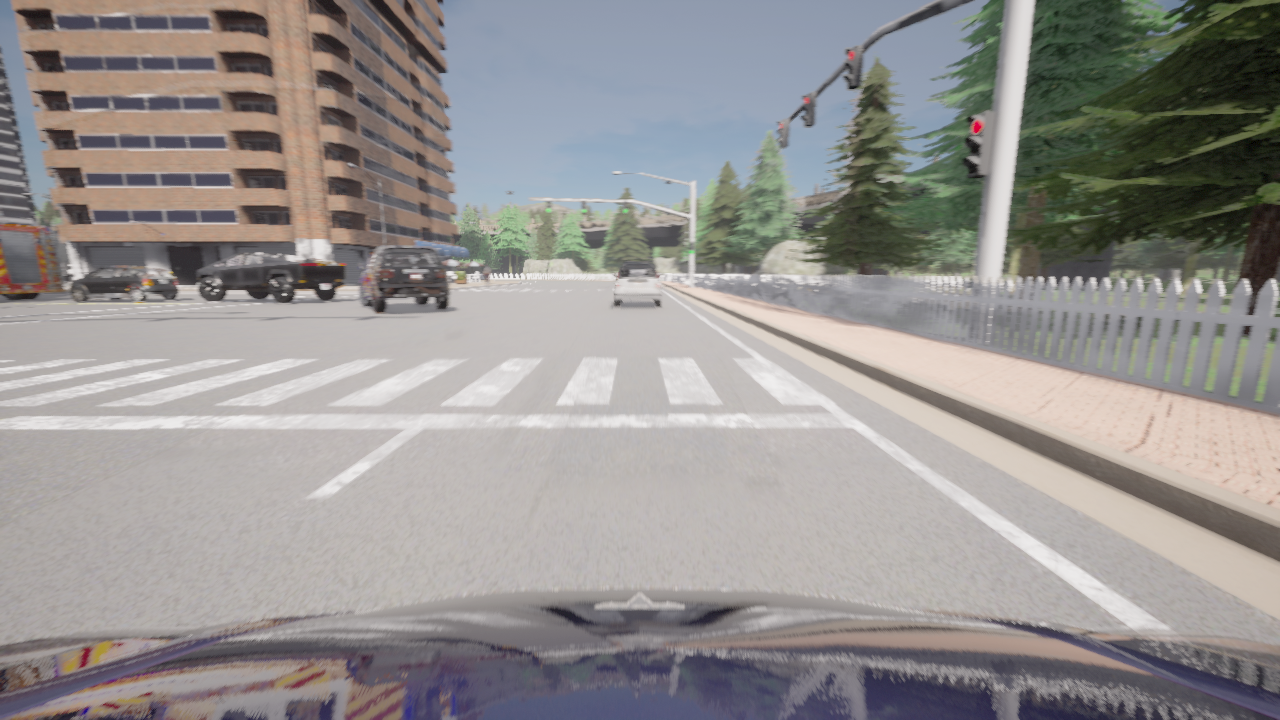cyclist: (0, 588, 1279, 719), (197, 253, 346, 303), (358, 246, 449, 312), (70, 267, 179, 302), (614, 262, 661, 307), (61, 262, 74, 281)
pedestrian: (484, 265, 489, 283)
